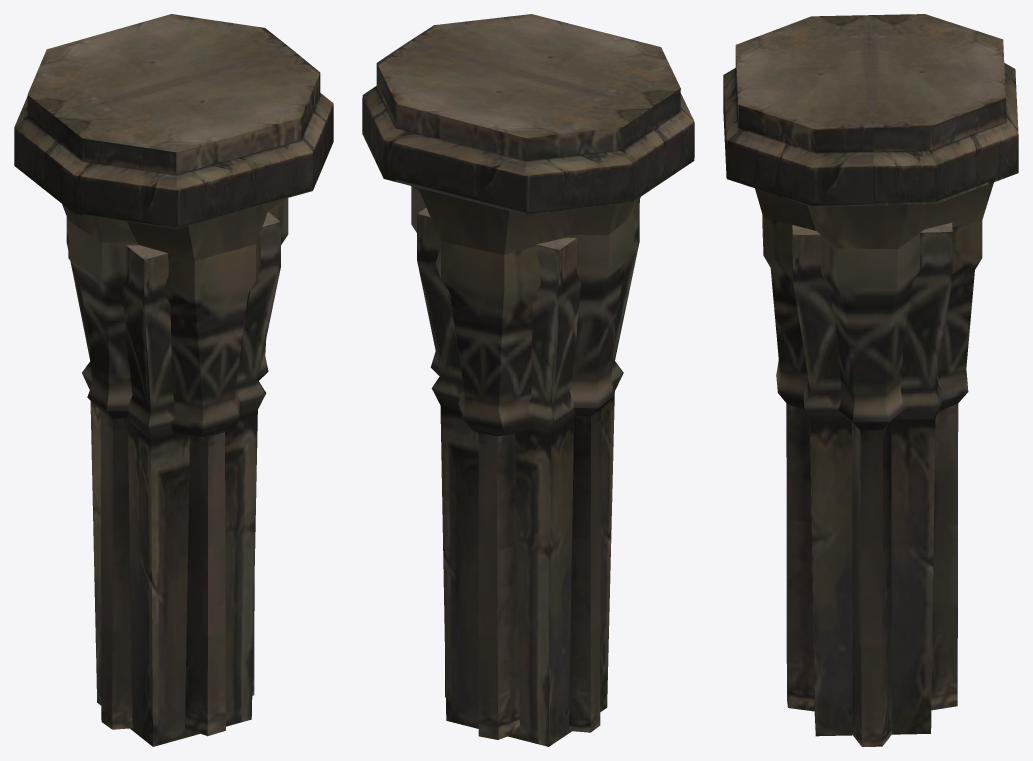
Rendered from hazz_gq_04.FBX.
3 views of the same model, side by side, from view 1: azimuth 30°, elevation 25°; view 2: azimuth 150°, elevation 25°; view 3: azimuth 270°, elevation 25° (orthographic).
Parts seen in each view (by area): view 1: hazz_gq_04; view 2: hazz_gq_04; view 3: hazz_gq_04.
Boxes of the visible parts, left/top/right/bottom form: hazz_gq_04: left=14, top=14, right=333, bottom=746; hazz_gq_04: left=362, top=14, right=694, bottom=746; hazz_gq_04: left=723, top=14, right=1018, bottom=746.
Size of the model in its own units: 195 by 450 by 186.
